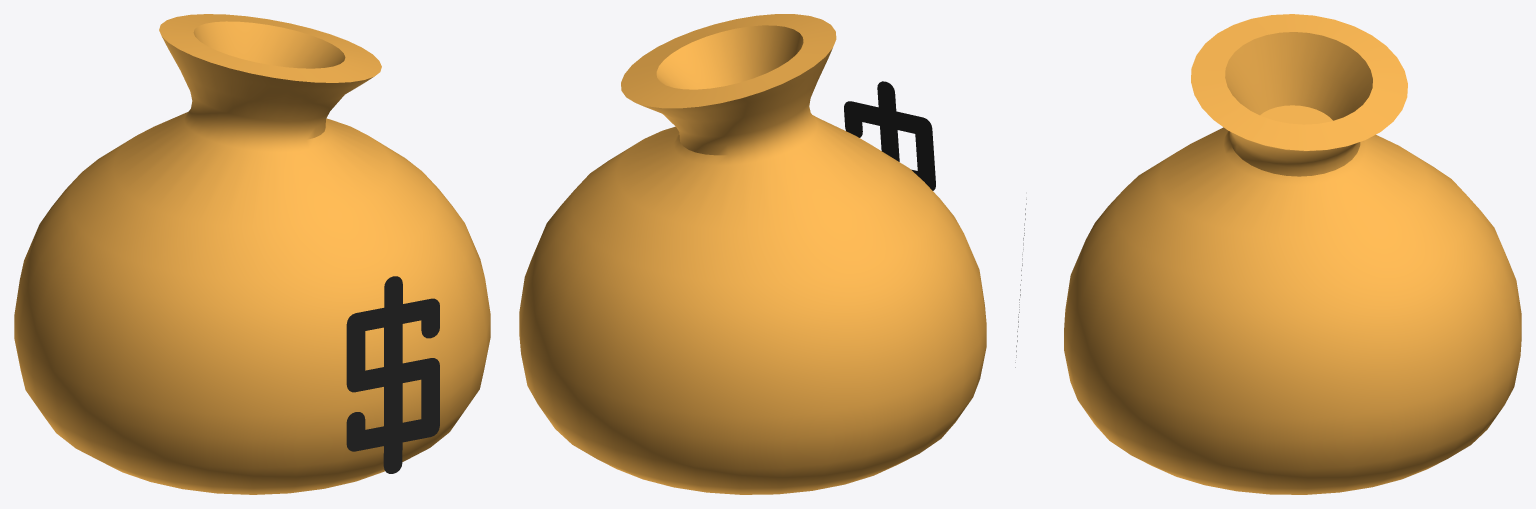
Rendered from money_bag.glb.
3 views of the same model, side by side, from view 1: azimuth 30°, elevation 25°; view 2: azimuth 150°, elevation 25°; view 3: azimuth 270°, elevation 25° (orthographic). The views are drawn at different scales.
Visible parts, largest first — view 1: Cylinder.503, Money-Mouth Face.001; view 2: Cylinder.503, Money-Mouth Face.001; view 3: Cylinder.503.
Boxes of the visible parts, box(x1,y1,x2,y2) form: Cylinder.503: box(14, 14, 490, 494); Money-Mouth Face.001: box(346, 276, 439, 473); Cylinder.503: box(519, 14, 986, 494); Money-Mouth Face.001: box(844, 81, 935, 190); Cylinder.503: box(1064, 14, 1521, 494).
Size of the model in its own units: 2 by 1.82 by 2.21.
Materials: 1 (1 with a texture image).
